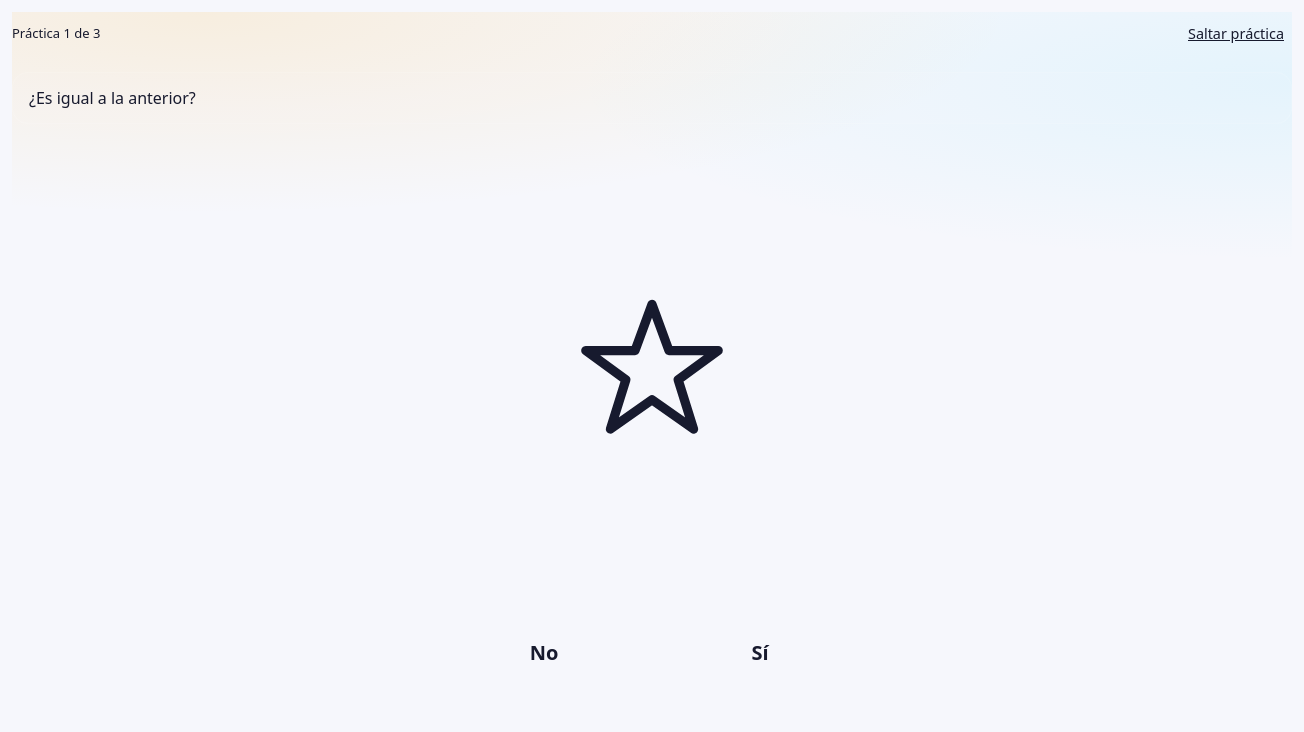
Test: a wrong answer in round 2 hints and keeps the round
Step 1. Click the button "Sí" → [760, 653], box 660,614 -> 860,692
Wait 700 ms
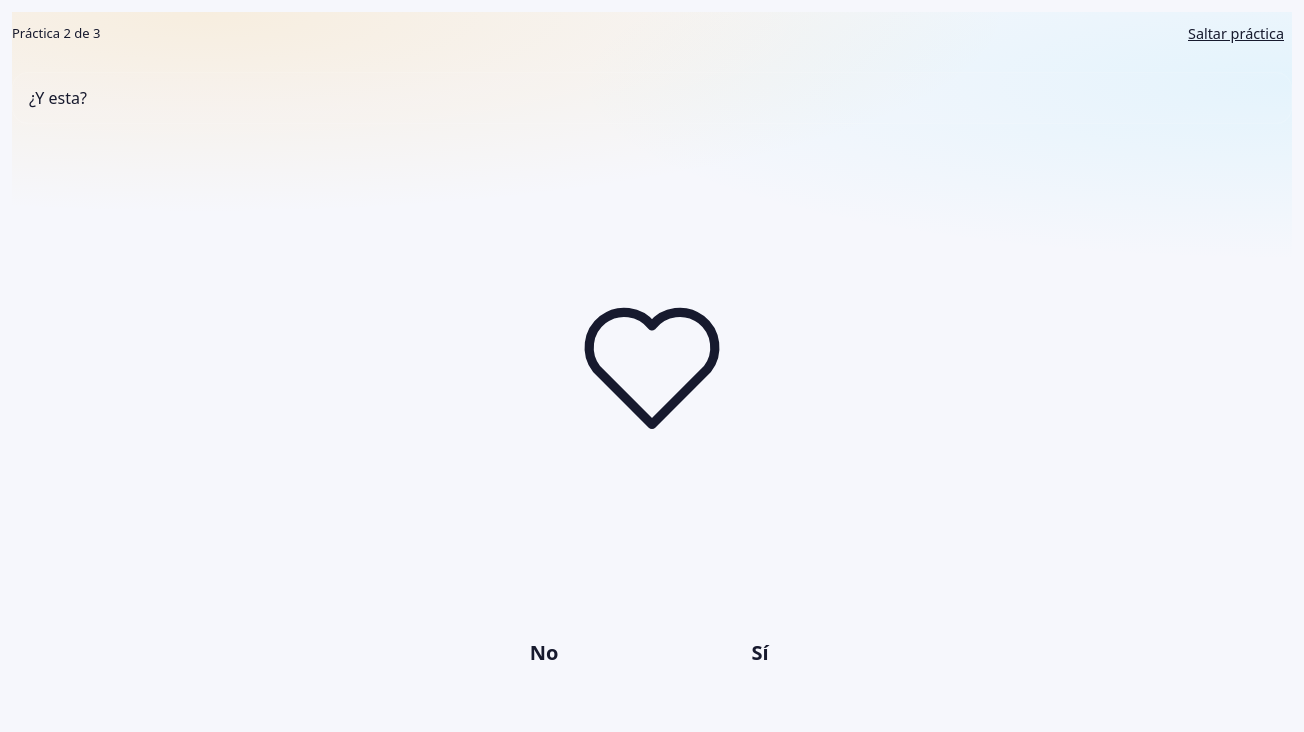
Step 2. Click the button "Sí" → [760, 653], box 660,614 -> 860,692
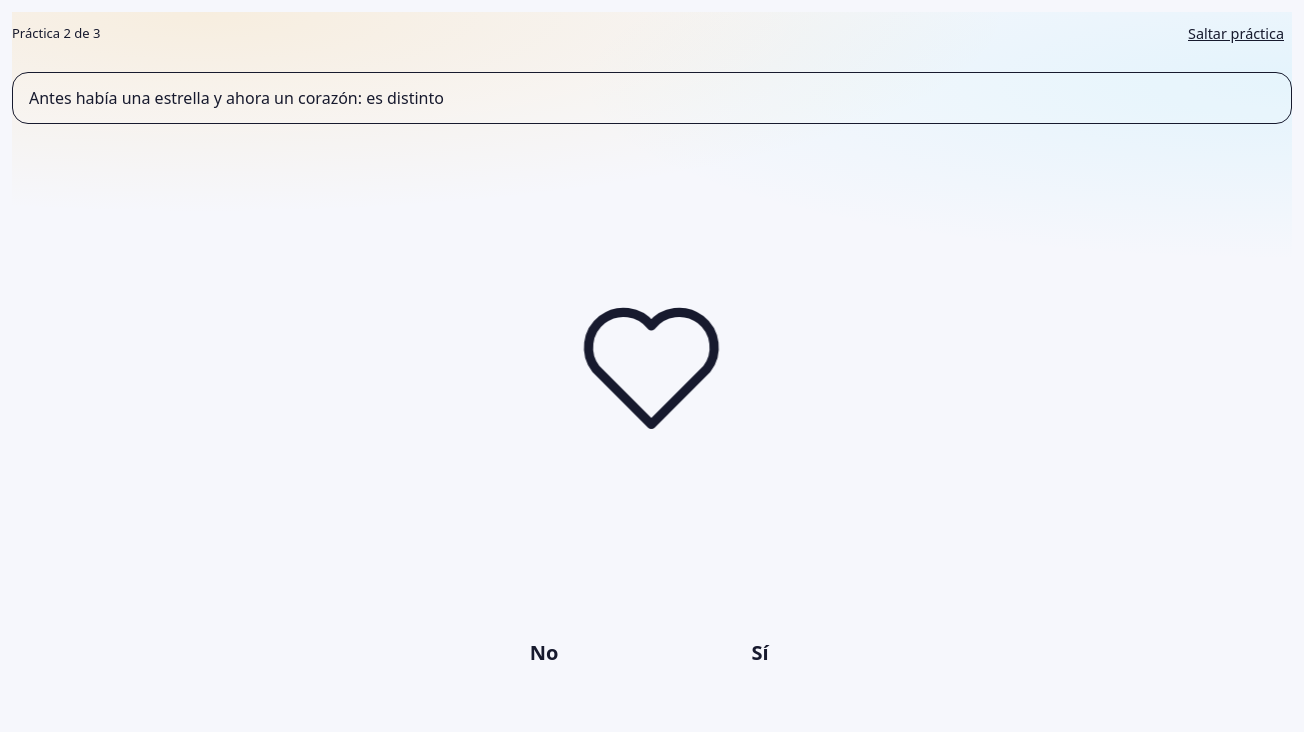
Expected: the text "Práctica 2 de 3" is shown, 12,24 -> 100,44
Expected: the text "Antes había una estrella y ahora un corazón: es distinto" is shown, 12,72 -> 1292,124
